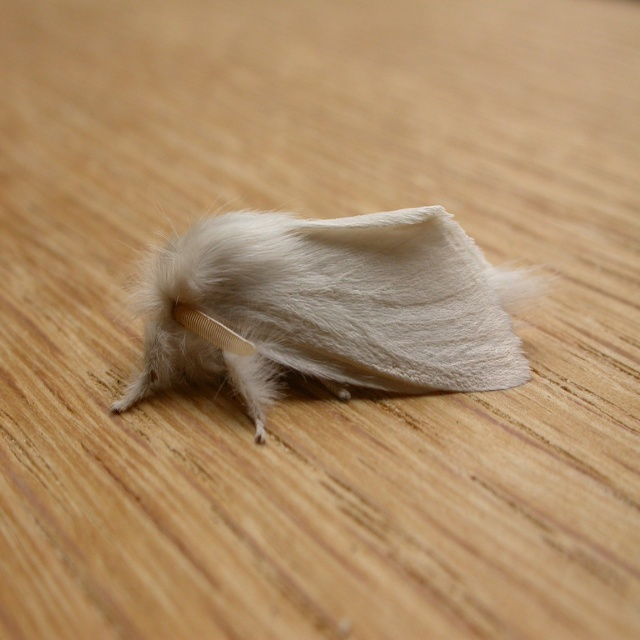Moths and butterflies: (111, 202, 562, 448)
